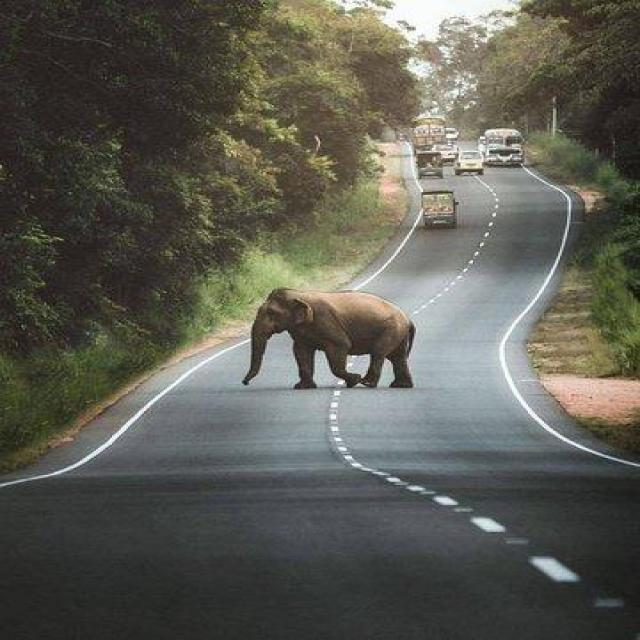Elephant: (228, 276, 447, 417)
